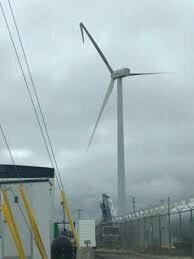faulty: (71, 18, 159, 145)
